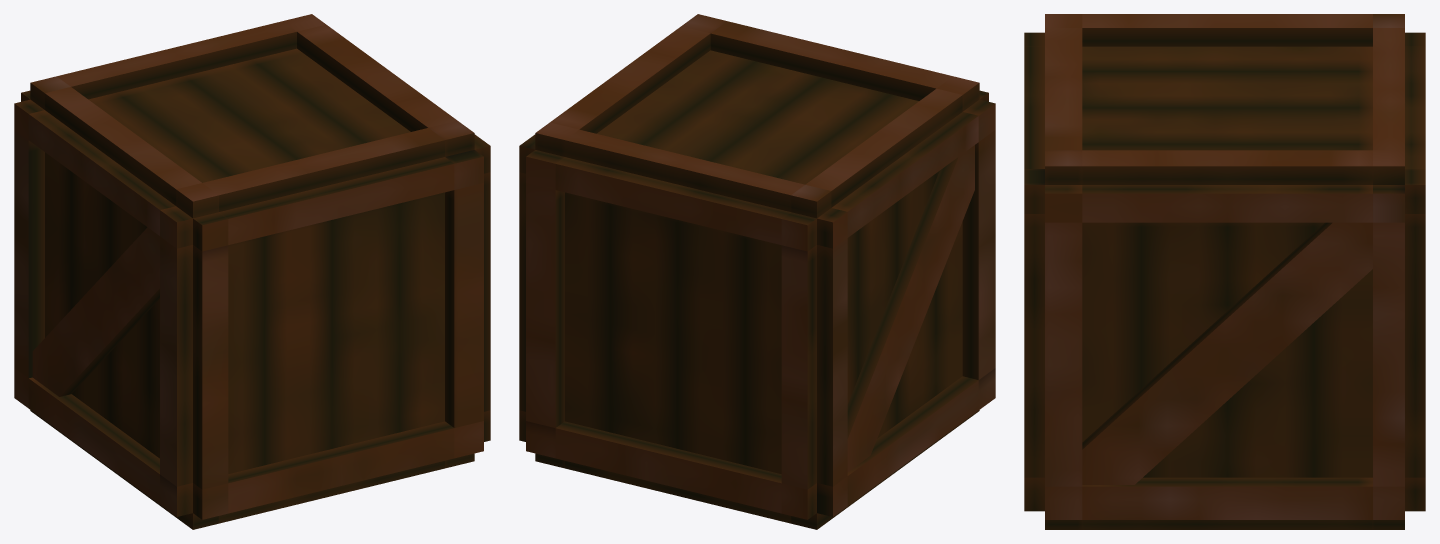
Rendered from CaixoteZefir(1).fbx.
3 views of the same model, side by side, from view 1: azimuth 30°, elevation 25°; view 2: azimuth 150°, elevation 25°; view 3: azimuth 270°, elevation 25° (orthographic). The views are drawn at different scales.
Parts seen in each view (by area): view 1: Cube; view 2: Cube; view 3: Cube.
Boxes of the visible parts, x1,y1,x2,y2 form: Cube: [14, 14, 490, 529]; Cube: [519, 14, 995, 529]; Cube: [1024, 14, 1425, 529].
Bounding box in the file's own units: 87.24 × 87.24 × 87.24.
